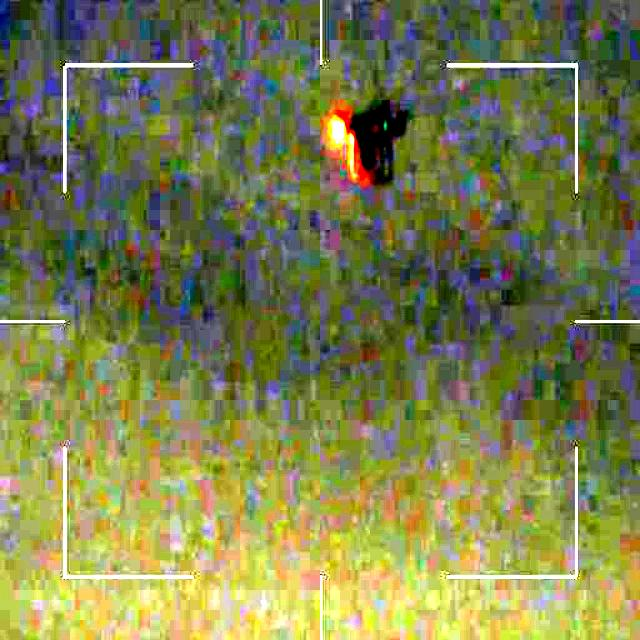bird: (319, 98, 415, 185)
